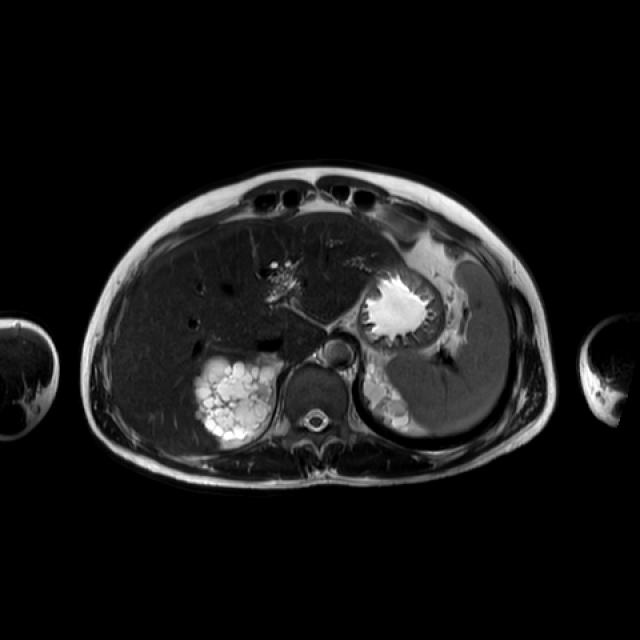sag: (193, 356, 277, 446)
sol: (364, 364, 411, 431)
